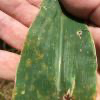Corn rust leaf: (14, 0, 99, 99)
